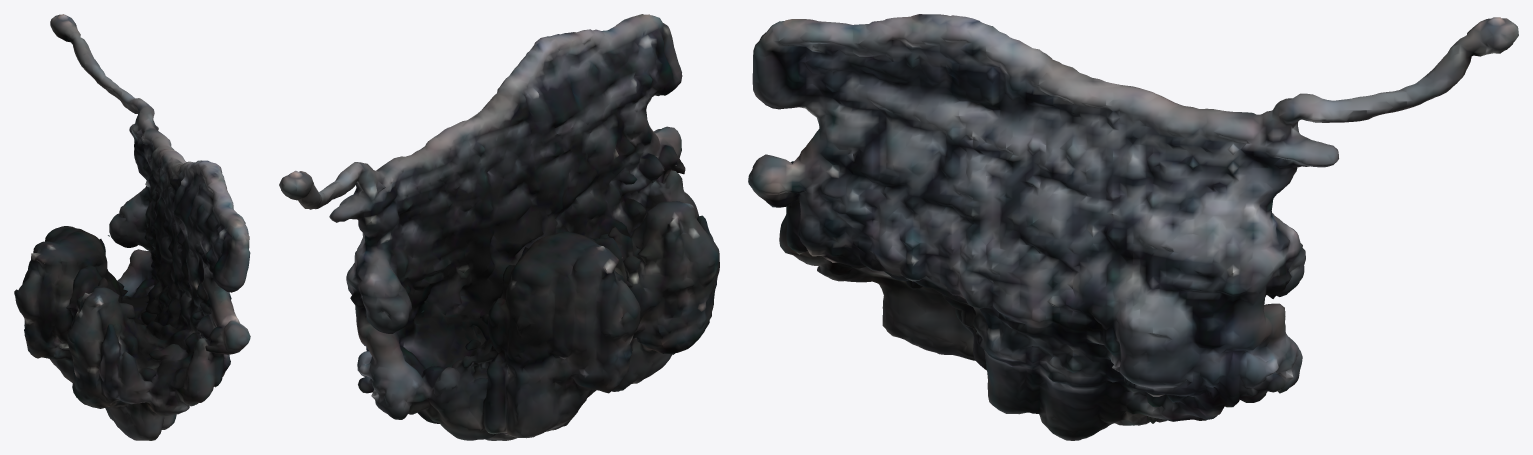
The model's file is engine.glb.
3 renders of one model, left to right at view 1: azimuth 30°, elevation 25°; view 2: azimuth 150°, elevation 25°; view 3: azimuth 270°, elevation 25°, orthographic. The views are drawn at different scales.
Parts seen in each view (by area): view 1: geometry_0; view 2: geometry_0; view 3: geometry_0.
Boxes of the visible parts, left/top/right/bottom form: geometry_0: left=14, top=14, right=250, bottom=440; geometry_0: left=279, top=14, right=719, bottom=440; geometry_0: left=748, top=14, right=1518, bottom=440.
Bounding box in the file's own units: 0.4948 × 0.686 × 1.05.
